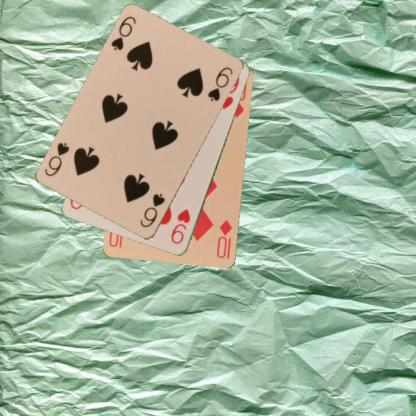10d: (214, 217, 234, 260)
6s: (108, 14, 138, 52), (138, 192, 166, 230)
9h: (168, 206, 192, 246)
